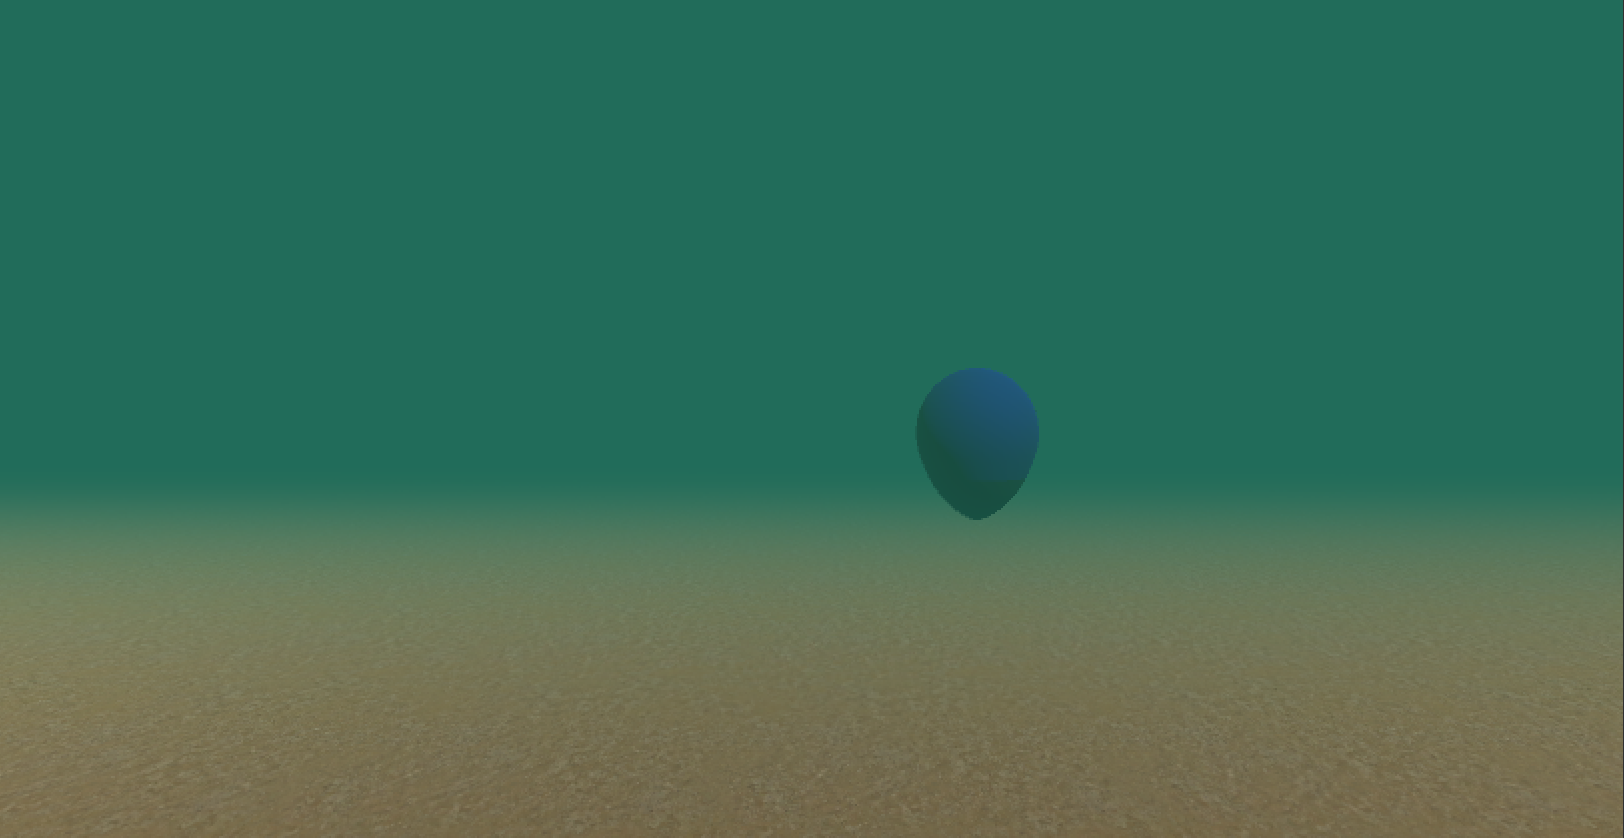blue buoy: (911, 364, 1043, 526)
